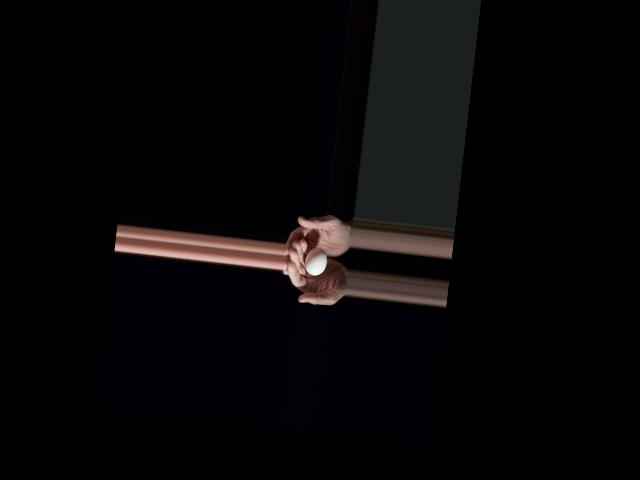egg: (303, 246, 328, 277)
